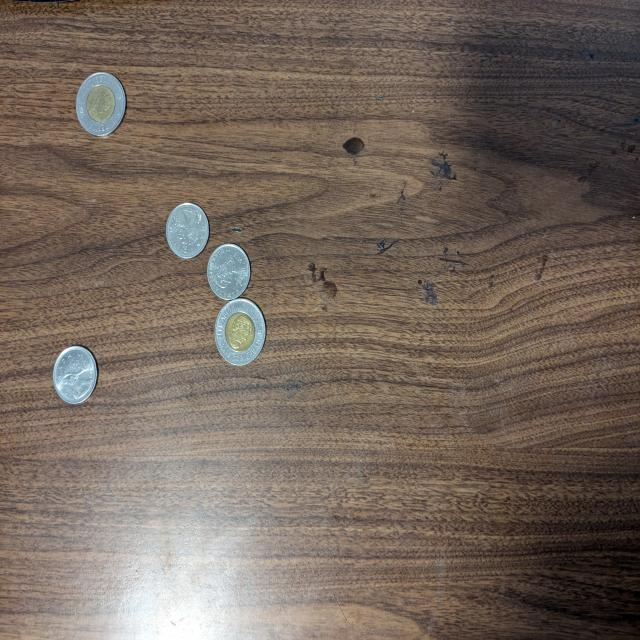quarter: (164, 202, 210, 260), (54, 346, 98, 405), (208, 244, 251, 300)
toonie: (76, 72, 128, 138), (216, 299, 265, 367)
